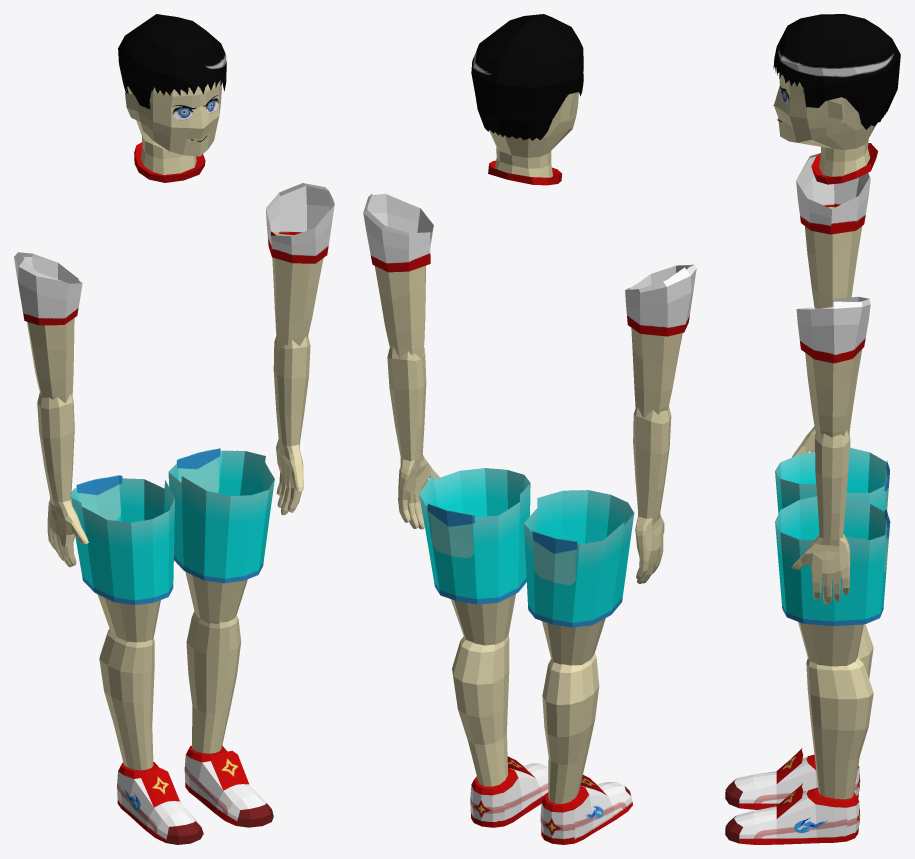
File: 03_Garoto.fbx
3 renders of one model, left to right at view 1: azimuth 30°, elevation 25°; view 2: azimuth 150°, elevation 25°; view 3: azimuth 270°, elevation 25°, orthographic. The views are drawn at different scales.
Parts seen in each view (by area): view 1: 03_CoxaEsq, 03_Cabeça, 03_CoxaDir, 03_PernaEsq, 03_PernaDir, 03_BracoEsq, 03_BracoDir, 03_AntebracoDir, 03_AntebracoEsq; view 2: 03_CoxaEsq, 03_CoxaDir, 03_Cabeça, 03_PernaDir, 03_PernaEsq, 03_BracoEsq, 03_BracoDir, 03_AntebracoEsq, 03_AntebracoDir; view 3: 03_Cabeça, 03_PernaEsq, 03_CoxaEsq, 03_BracoEsq, 03_BracoDir, 03_AntebracoEsq, 03_CoxaDir, 03_PernaDir, 03_AntebracoDir.
Boxes of the visible parts, x1,y1,x2,y2 form: 03_CoxaEsq: (168, 448, 274, 623); 03_Cabeça: (118, 14, 226, 182); 03_CoxaDir: (71, 475, 174, 642); 03_PernaEsq: (184, 611, 273, 827); 03_PernaDir: (99, 629, 203, 844); 03_BracoEsq: (266, 183, 334, 351); 03_BracoDir: (14, 252, 82, 403); 03_AntebracoDir: (37, 392, 88, 567); 03_AntebracoEsq: (273, 336, 310, 515); 03_CoxaEsq: (419, 468, 530, 645); 03_CoxaDir: (524, 490, 634, 665); 03_Cabeça: (471, 14, 583, 185); 03_PernaDir: (540, 653, 632, 844); 03_PernaEsq: (452, 635, 548, 827); 03_BracoEsq: (363, 193, 433, 362); 03_BracoDir: (625, 264, 696, 417); 03_AntebracoEsq: (387, 346, 439, 529); 03_AntebracoDir: (633, 406, 671, 583); 03_Cabeça: (773, 14, 900, 184); 03_PernaEsq: (725, 657, 873, 844); 03_CoxaEsq: (775, 496, 890, 666); 03_BracoEsq: (796, 296, 870, 437); 03_BracoDir: (796, 153, 870, 308); 03_AntebracoEsq: (791, 430, 850, 604); 03_CoxaDir: (775, 447, 889, 513); 03_PernaDir: (725, 624, 873, 809); 03_AntebracoDir: (792, 426, 850, 457).
Size of the model in its own units: 96.6 by 229 by 45.64.
2 materials, 1 textured.
